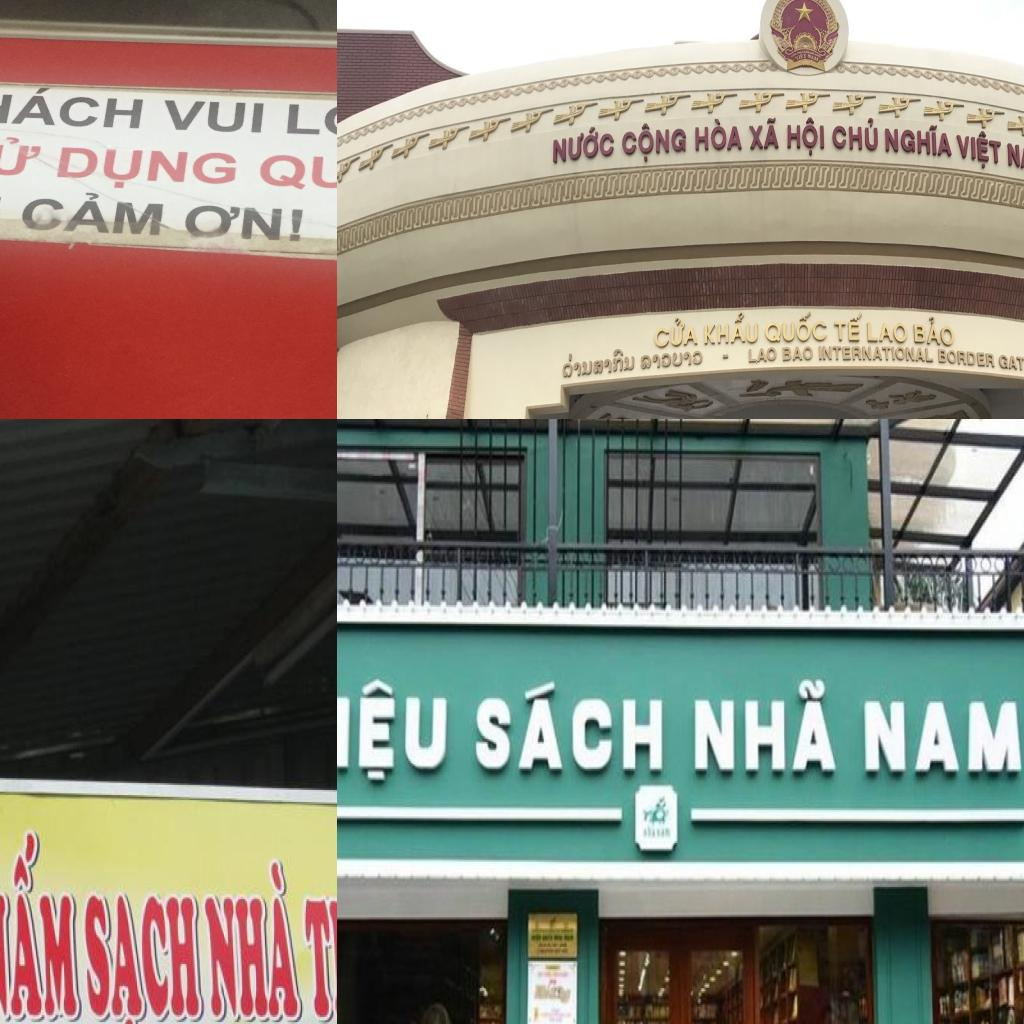text: (472, 675, 666, 772), (201, 854, 307, 1024), (81, 889, 207, 1024), (688, 666, 839, 778), (0, 826, 84, 1024), (860, 691, 1024, 778), (337, 671, 452, 792), (48, 141, 244, 196), (293, 826, 337, 1024), (0, 82, 150, 134), (18, 188, 168, 240), (160, 95, 272, 139), (179, 201, 288, 243), (254, 141, 337, 195), (277, 89, 337, 142), (620, 122, 688, 164), (884, 119, 954, 159), (550, 124, 616, 166), (815, 344, 936, 366), (954, 124, 1002, 176), (761, 309, 827, 343), (0, 135, 48, 180), (700, 312, 760, 346), (830, 116, 881, 153), (785, 115, 825, 162), (692, 118, 744, 152), (649, 316, 701, 348), (910, 313, 956, 346), (934, 345, 996, 368), (864, 316, 908, 343), (747, 118, 781, 152), (831, 309, 863, 343), (1004, 138, 1024, 179), (996, 349, 1024, 375), (778, 345, 814, 364), (745, 346, 777, 367)
